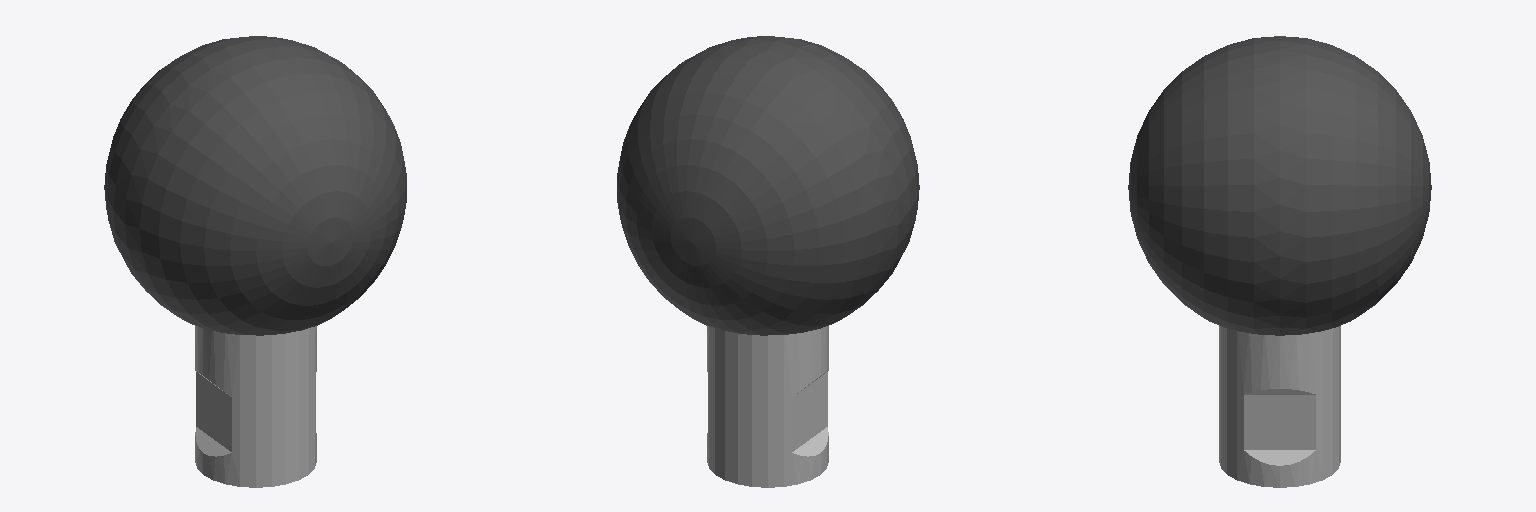
Rendered from ganter_gn_319_5-25-m6-b.obj.
3 renders of one model, left to right at view 1: azimuth 30°, elevation 25°; view 2: azimuth 150°, elevation 25°; view 3: azimuth 270°, elevation 25°, orthographic.
Parts seen in each view (by area): view 1: ganter_gn_319_5-25-m6-b_1; view 2: ganter_gn_319_5-25-m6-b_1; view 3: ganter_gn_319_5-25-m6-b_1.
Part boxes in pixels (bbox=[...]): ganter_gn_319_5-25-m6-b_1: bbox=[104, 36, 406, 487]; ganter_gn_319_5-25-m6-b_1: bbox=[617, 36, 919, 487]; ganter_gn_319_5-25-m6-b_1: bbox=[1128, 36, 1431, 487].
Size of the model in its own units: 24.98 by 37.5 by 25.